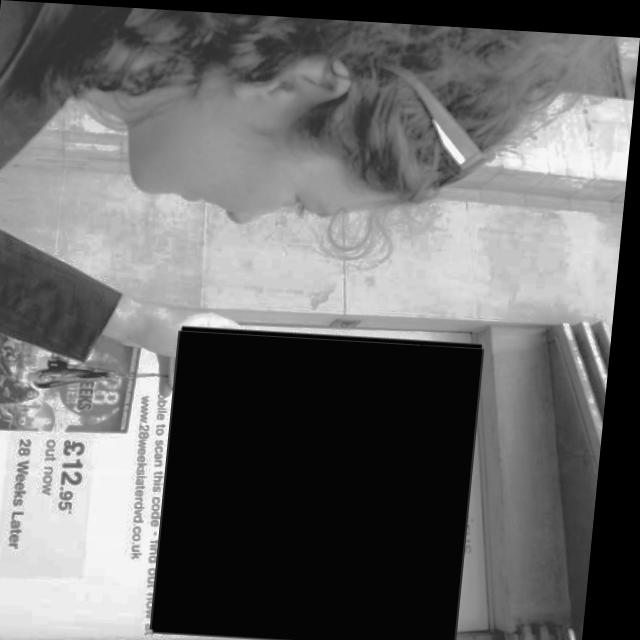qr_code: (163, 325, 488, 640), (246, 345, 281, 379)
